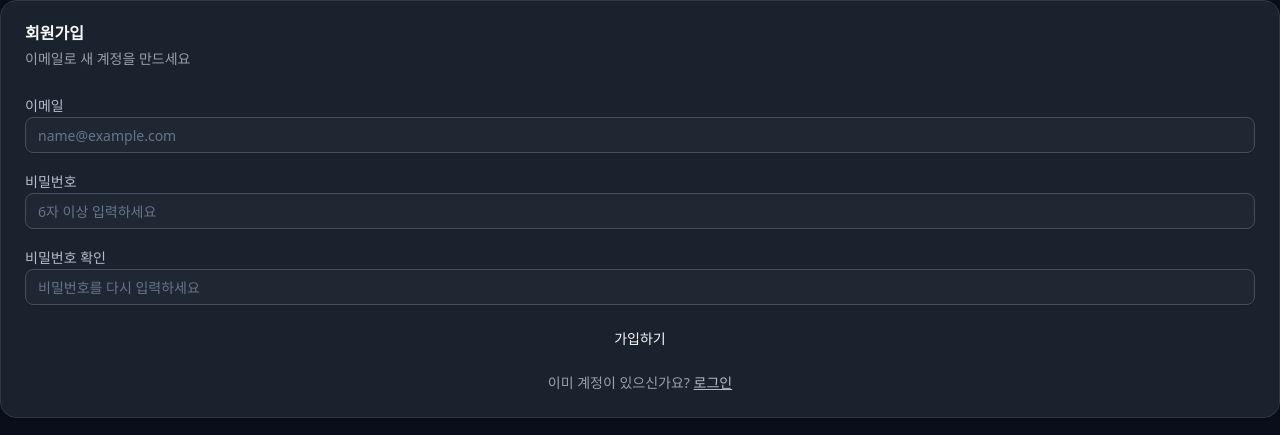
Test case: SignupForm › 로딩 중일 때 버튼이 비활성화된다
Type "test@example.com" into the field labelled "이메일" at [640, 135], box [25,117,1255,153]
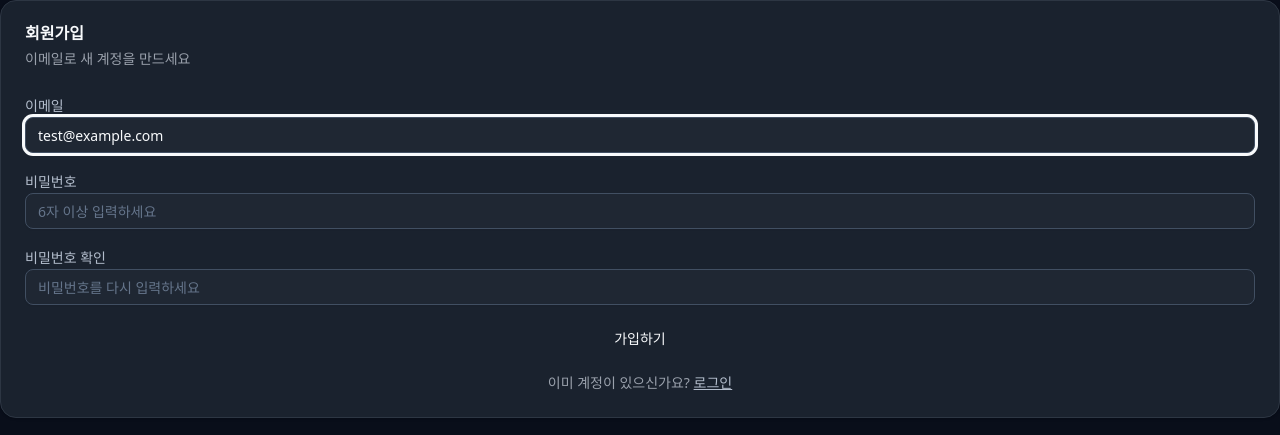
Type "password123" into the password field labelled "비밀번호" at [640, 211], box [25,193,1255,229]
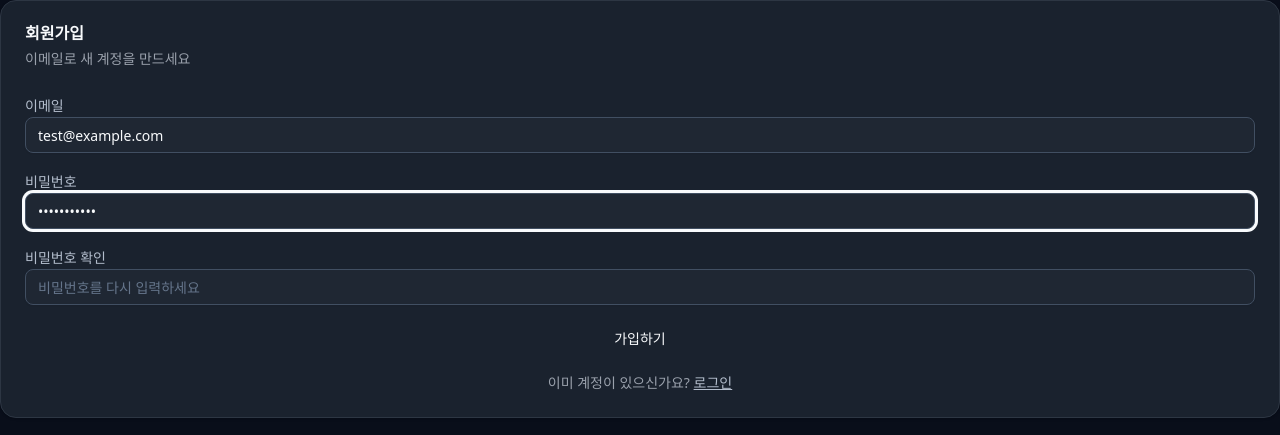
Type "password123" into the password field labelled "비밀번호 확인" at [640, 287], box [25,269,1255,305]
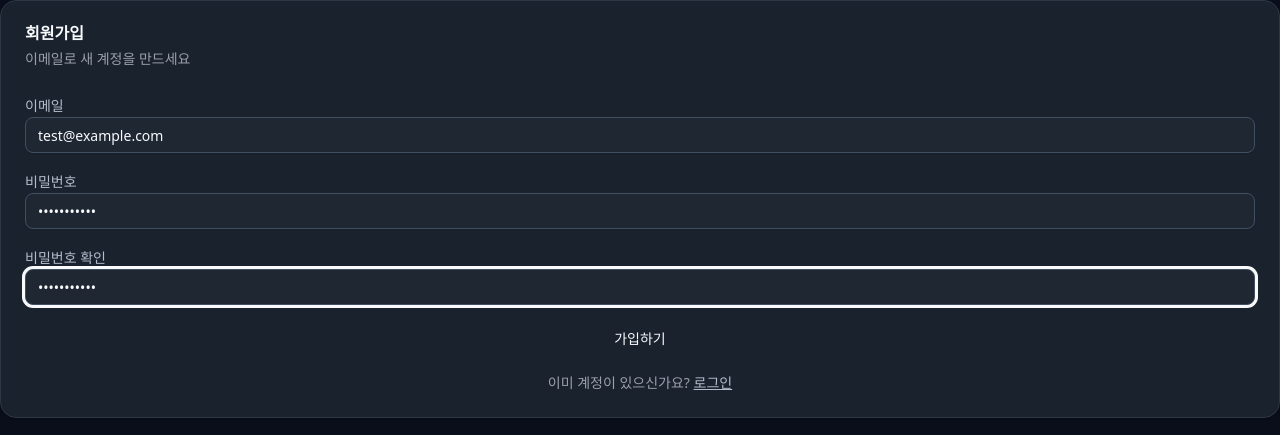
Click the button "가입하기" at [640, 339], box [25,321,1255,357]
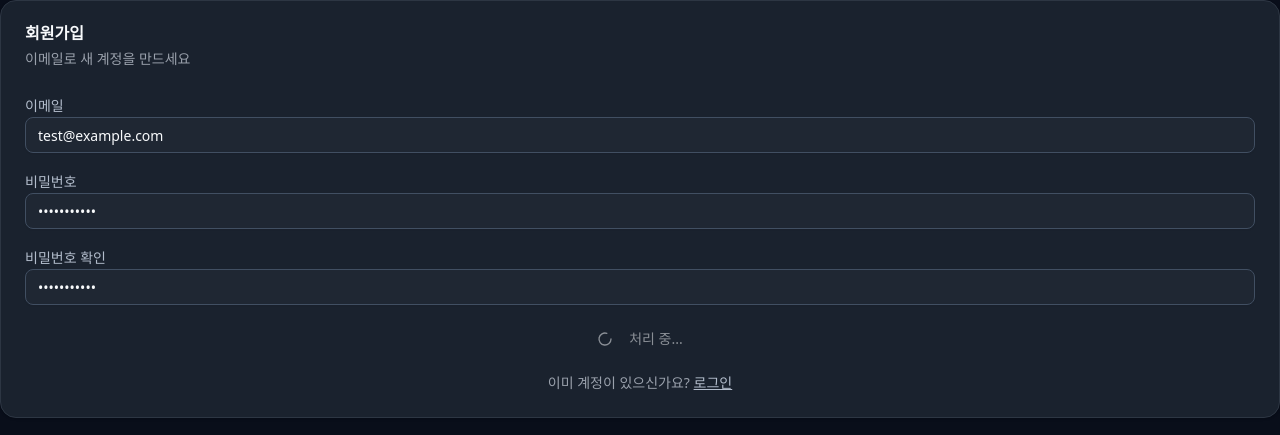
Check: the button "처리 중..." is disabled, box [25,321,1255,357]
